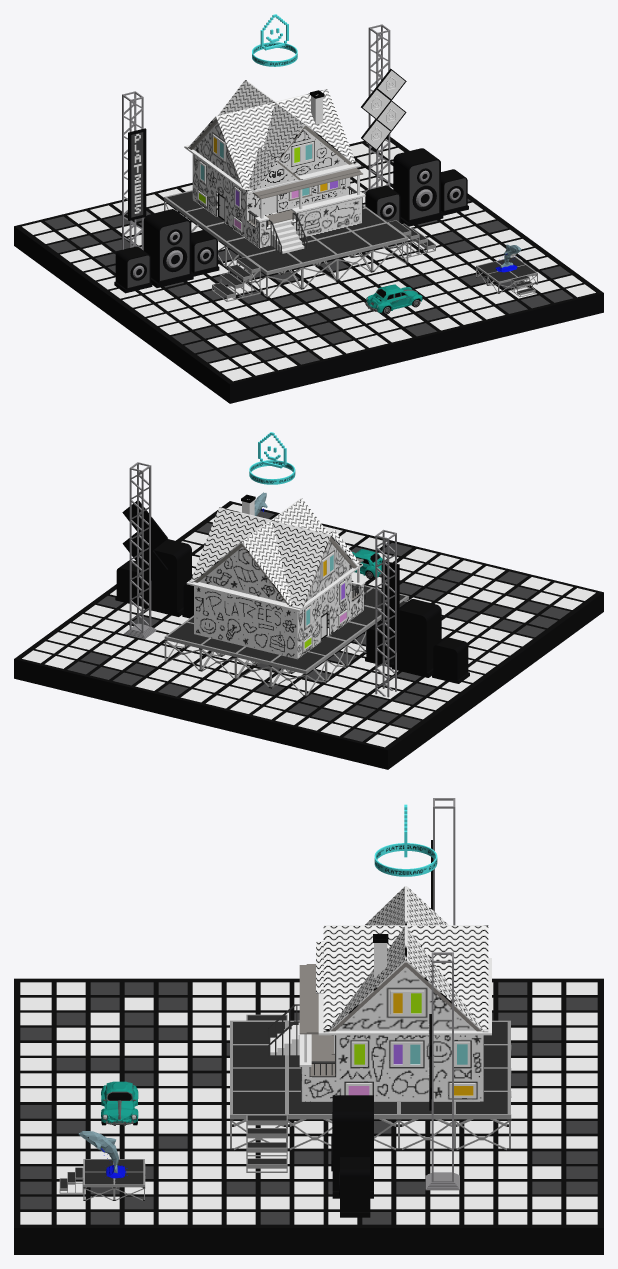
3 views of the same model, one above another, from view 1: azimuth 30°, elevation 25°; view 2: azimuth 150°, elevation 25°; view 3: azimuth 270°, elevation 25° (orthographic). The views are drawn at different scales.
Parts seen in each view (by area): view 1: Cube.008, Cube.879, VEHICLES_VOLKSWAGEN, TYPE_PREMIUM; view 2: Cube.008, Cube.879, TYPE_PREMIUM, VEHICLES_VOLKSWAGEN; view 3: Cube.008, Cube.879, VEHICLES_VOLKSWAGEN, TYPE_PREMIUM, ANIMAL_DELFIN.
Part boxes in pixels (box(x1,y1,x2,y2)): Cube.008: box(14, 24, 603, 403); Cube.879: box(184, 80, 365, 254); VEHICLES_VOLKSWAGEN: box(365, 284, 422, 314); TYPE_PREMIUM: box(252, 14, 297, 66); Cube.008: box(14, 462, 603, 769); Cube.879: box(186, 494, 366, 659); TYPE_PREMIUM: box(249, 432, 295, 484); VEHICLES_VOLKSWAGEN: box(352, 549, 382, 579); Cube.008: box(14, 798, 603, 1254); Cube.879: box(268, 886, 491, 1101); VEHICLES_VOLKSWAGEN: box(101, 1081, 138, 1125); TYPE_PREMIUM: box(374, 804, 437, 876); ANIMAL_DELFIN: box(78, 1131, 127, 1178).
Bounding box in the file's own units: 4000 × 2534 × 4000.
39 materials, 10 textured.
